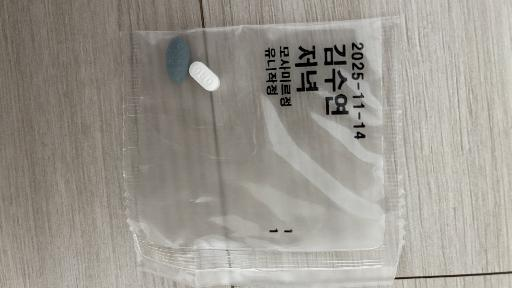Mosamir: (189, 61, 220, 91)
Unizac: (166, 37, 190, 83)
vinyl: (120, 18, 404, 287)
